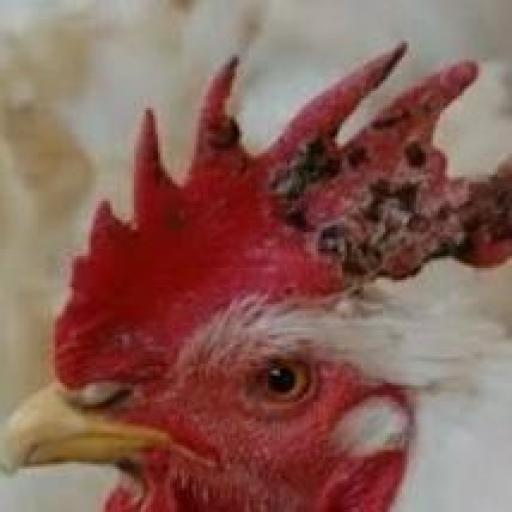disease: (182, 63, 512, 278)
